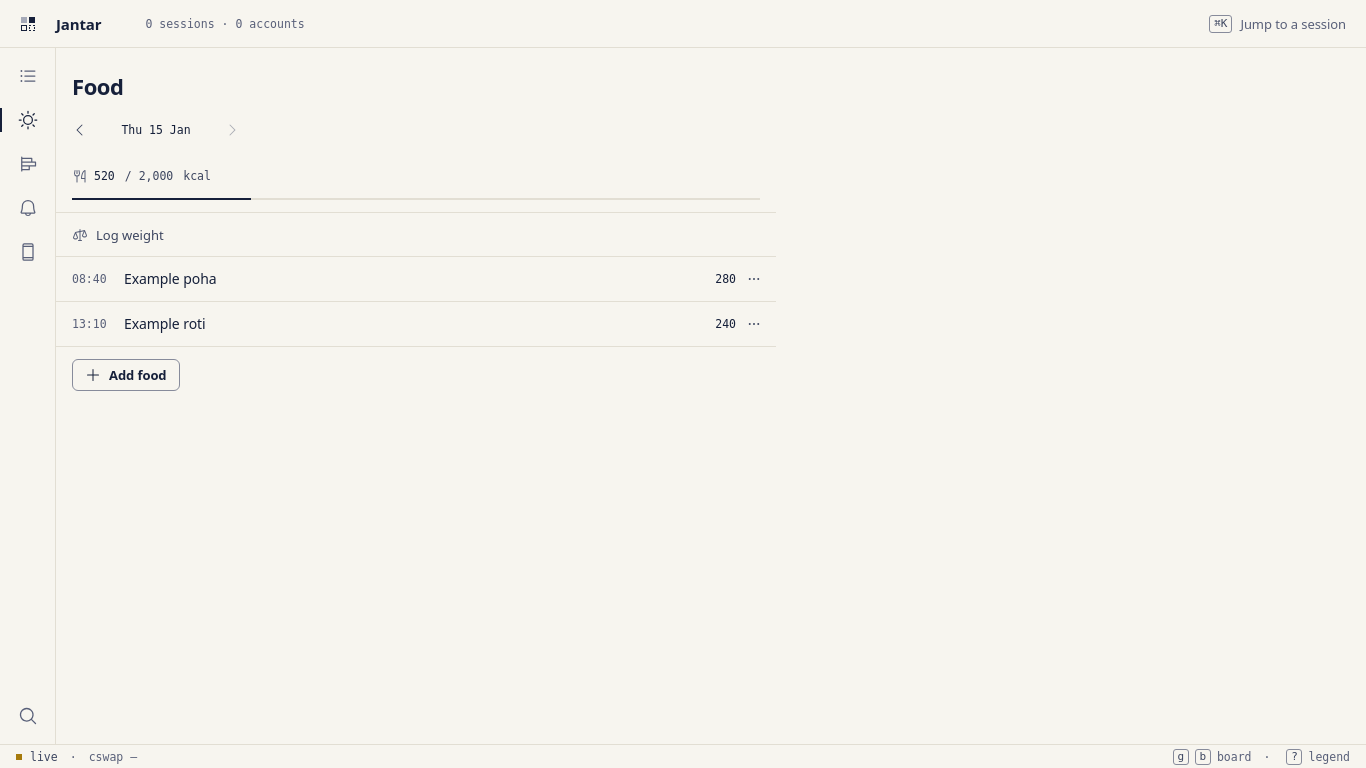
Food: entries › Undo puts a deleted entry back as it was, and sends nothing
Click the button named "Actions for Example poha".
click(754, 279)  # box [740, 265, 768, 293]
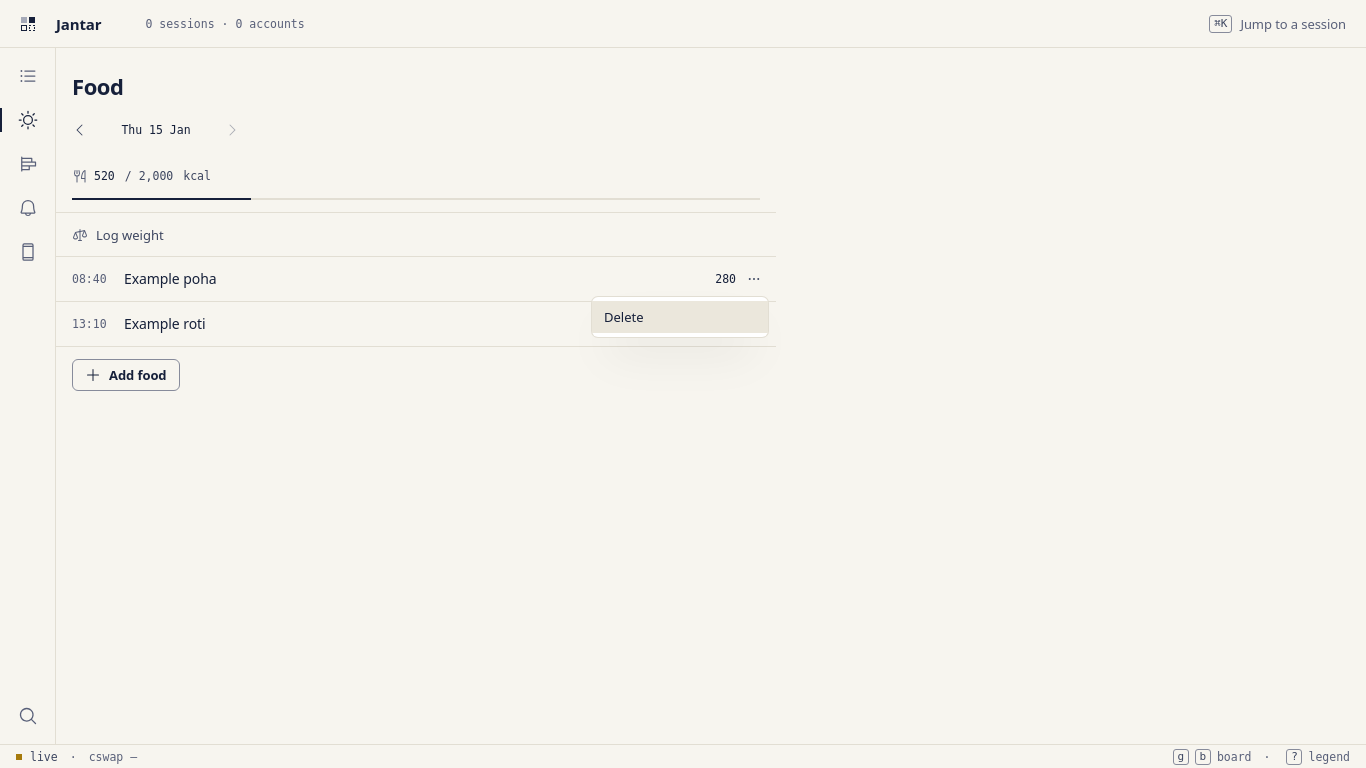
Click the menu item "Delete".
click(680, 317)  # box [592, 301, 768, 333]
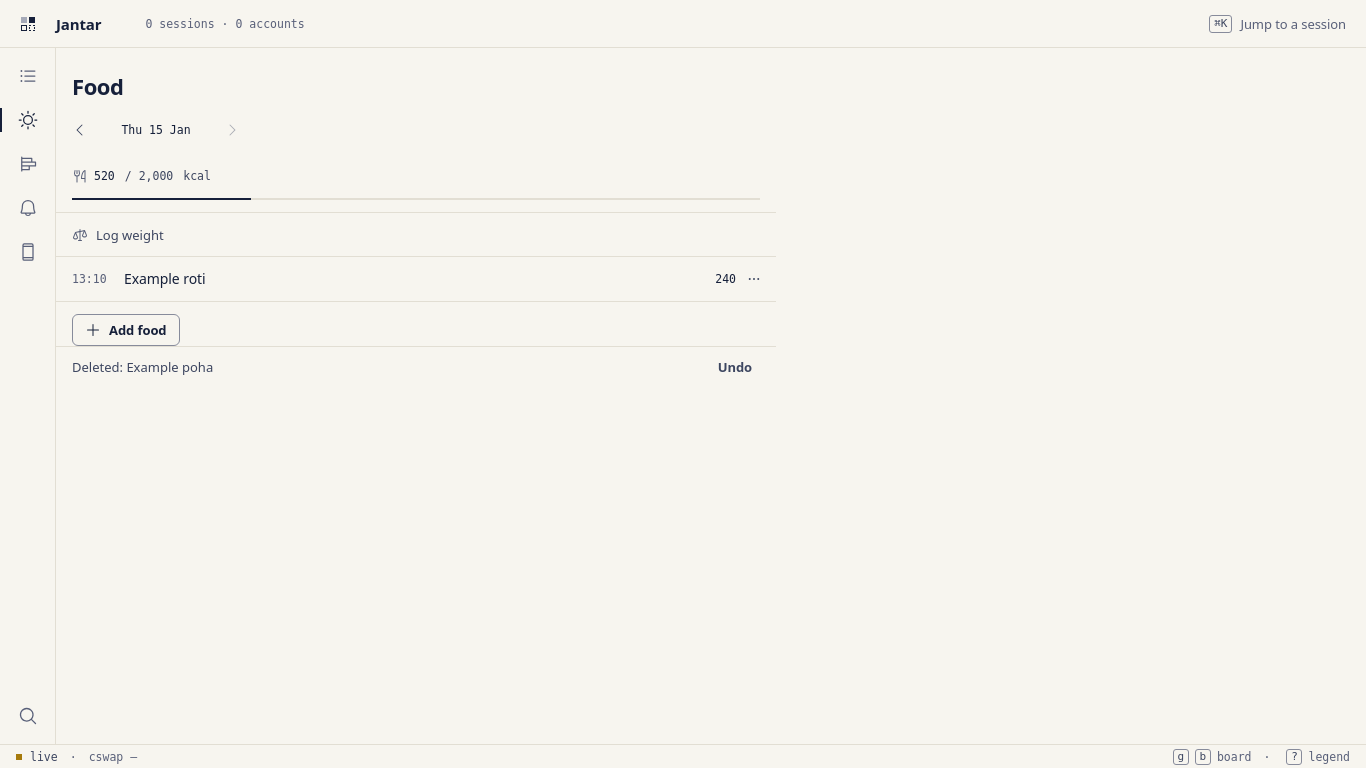
Click the button "Undo".
click(735, 366)  # box [710, 354, 760, 378]
Wait 10000 ms
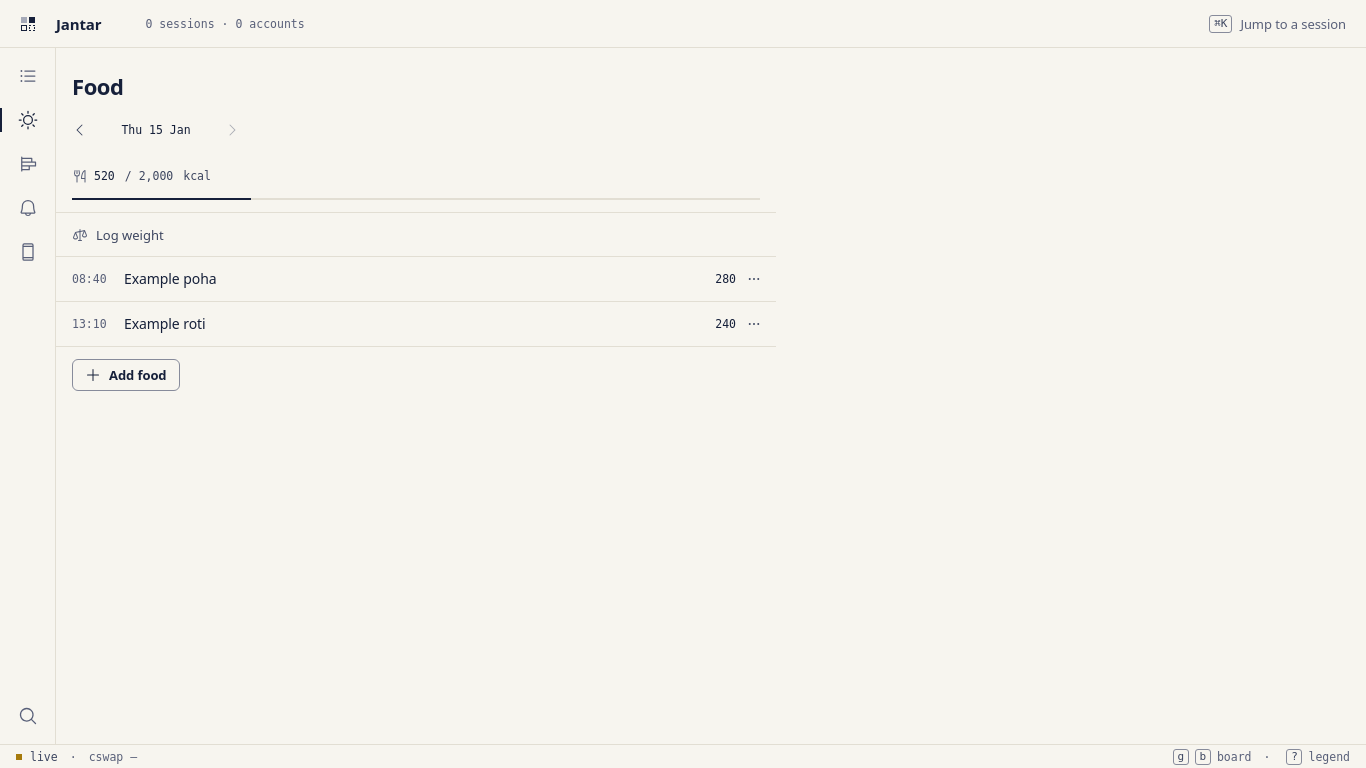
Expected: the list items read "08:40Example poha280", "13:10Example roti240", in this order, [56, 257, 776, 302]; [56, 302, 776, 347]
